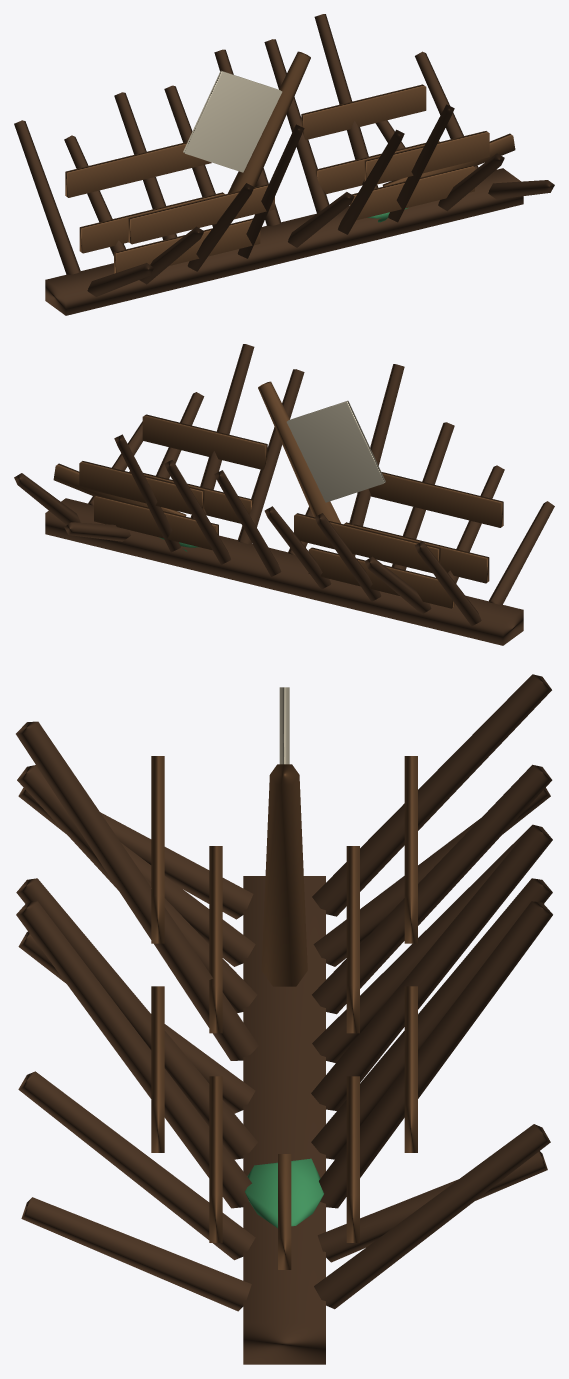
Rendered from shipwreck.glb.
3 renders of one model, top to bottom at view 1: azimuth 30°, elevation 25°; view 2: azimuth 150°, elevation 25°; view 3: azimuth 270°, elevation 25°, orthographic. The views are drawn at different scales.
Visible parts, largest first — view 1: shipwreck_hull; view 2: shipwreck_hull; view 3: shipwreck_hull.
Boxes of the visible parts, left/top/right/bottom form: shipwreck_hull: left=14, top=14, right=554, bottom=315; shipwreck_hull: left=14, top=344, right=554, bottom=645; shipwreck_hull: left=16, top=674, right=552, bottom=1364.
Bounding box in the file's own units: 14.41 × 5.9 × 7.32.
